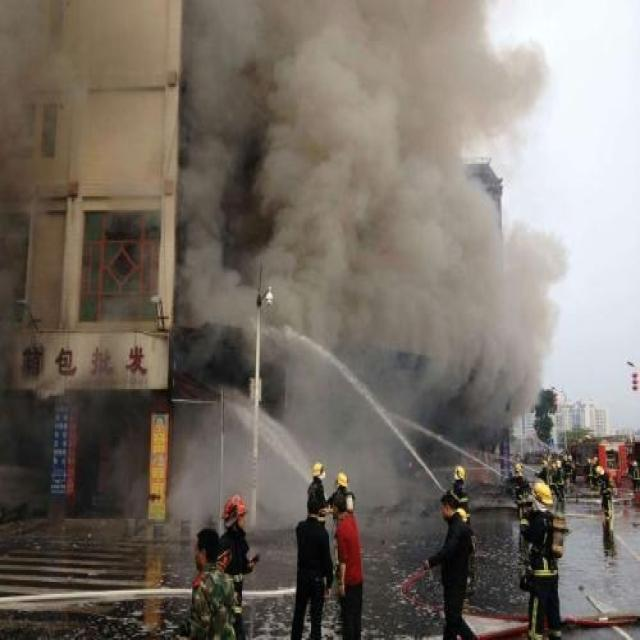Smoke: (178, 0, 570, 430)
